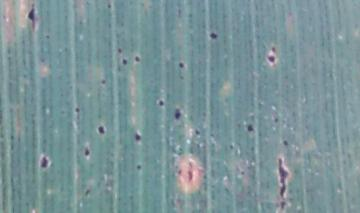tarspot: (270, 154, 295, 213), (23, 6, 43, 28), (37, 153, 51, 171), (170, 105, 184, 122), (94, 122, 109, 136), (153, 96, 169, 108), (81, 142, 92, 159), (243, 122, 257, 135), (190, 127, 205, 139), (130, 51, 142, 66), (279, 136, 292, 149), (206, 29, 220, 41), (266, 52, 278, 65), (71, 104, 83, 116), (132, 129, 142, 143), (133, 161, 145, 172), (175, 59, 187, 70), (97, 76, 109, 86), (120, 56, 130, 68), (268, 42, 280, 52), (105, 1, 116, 11), (42, 32, 54, 41), (272, 113, 279, 126), (115, 45, 124, 55)
